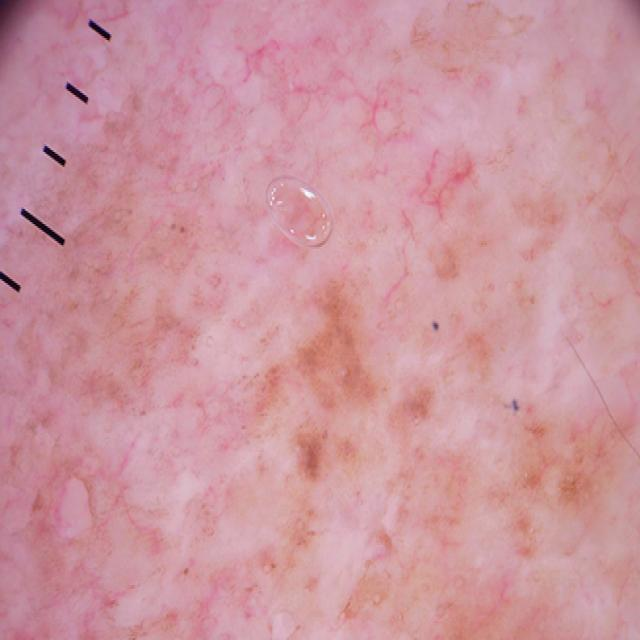Keratosis: (62, 266, 434, 640), (299, 15, 640, 277), (469, 374, 640, 640)
